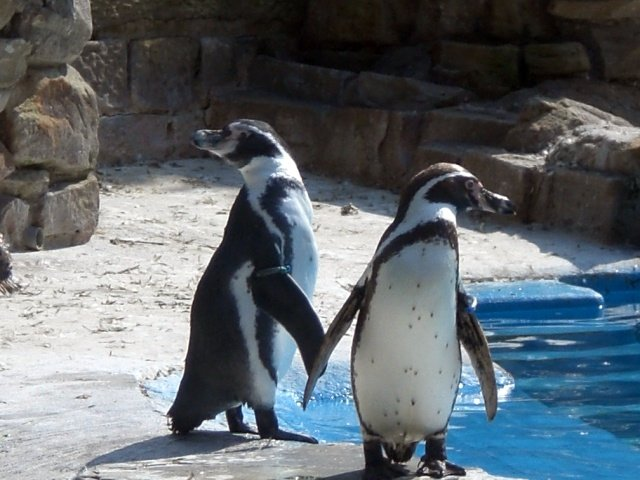penguin: (328, 159, 521, 480), (186, 117, 334, 436)
